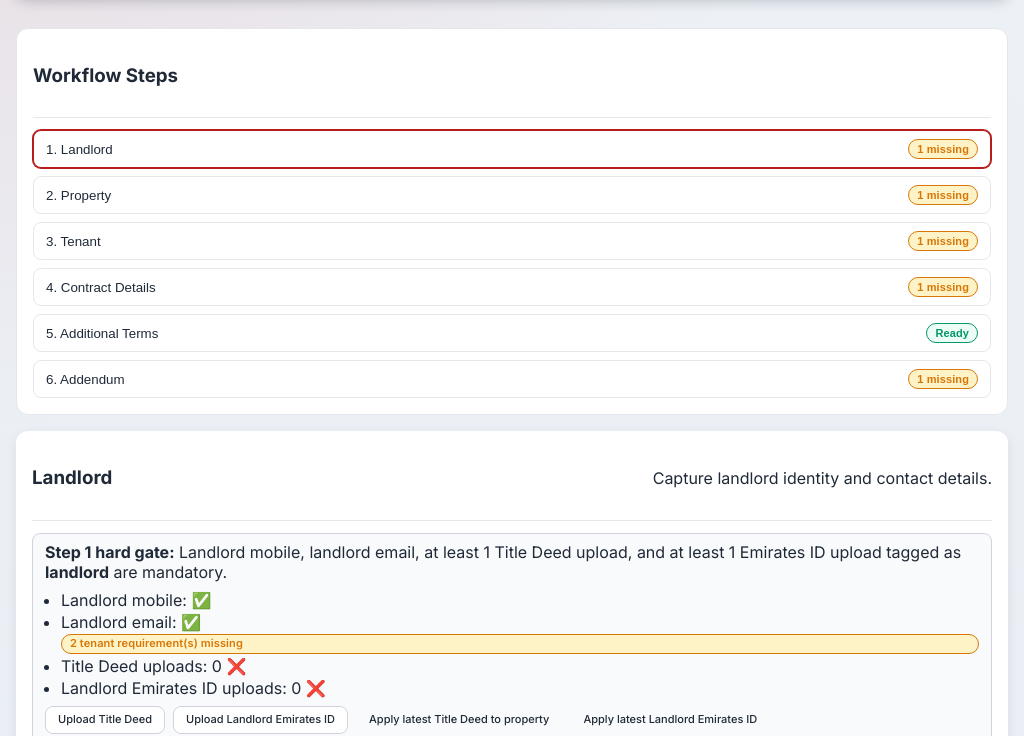
Test: TenancyContractBuilderPage integration shell › disables Continue on final step and re-enables it after returning to an earlier step
(page scrolled)
Click the button "6. Addendum 1 missing".
click(92, 379)  # box [33,360,991,398]
(page scrolled)
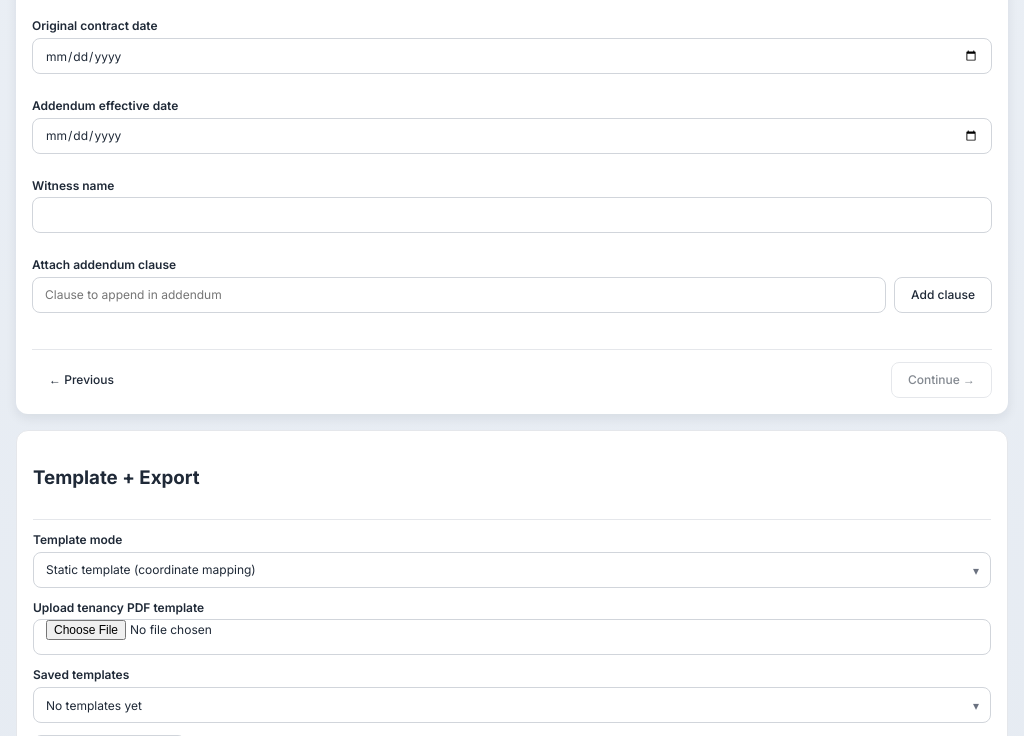
Expected: the button "Continue →" is disabled, [891,362,992,398]
Click the button "← Previous".
click(82, 380)  # box [32,362,131,398]
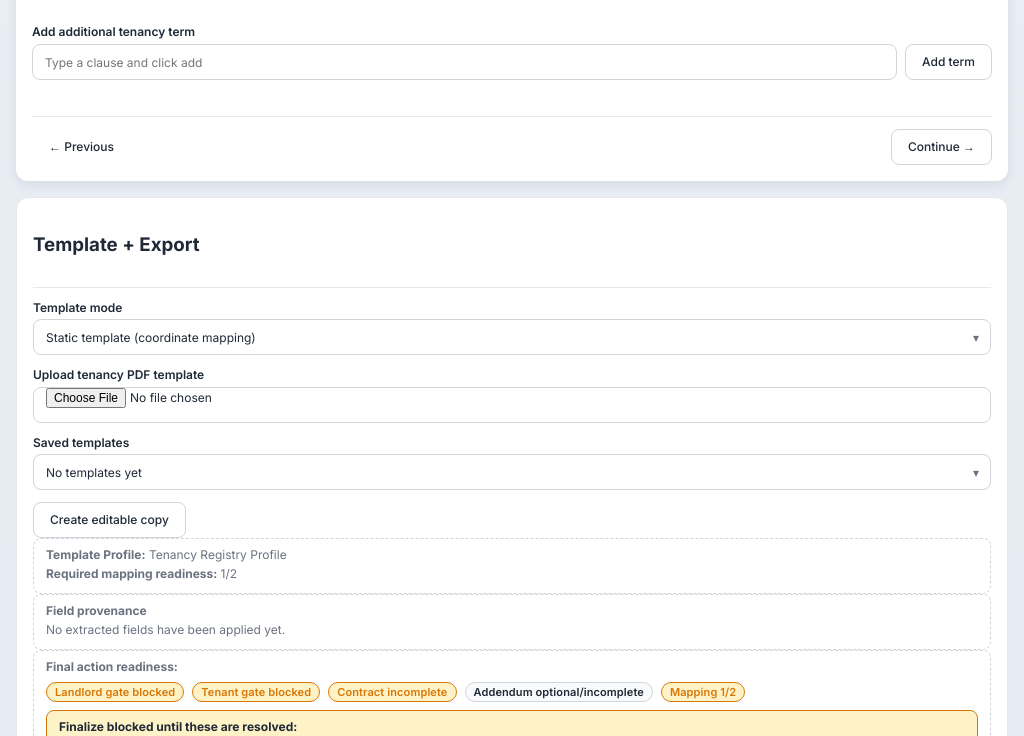
Expected: the button "Continue →" is enabled, [891,129,992,165]
